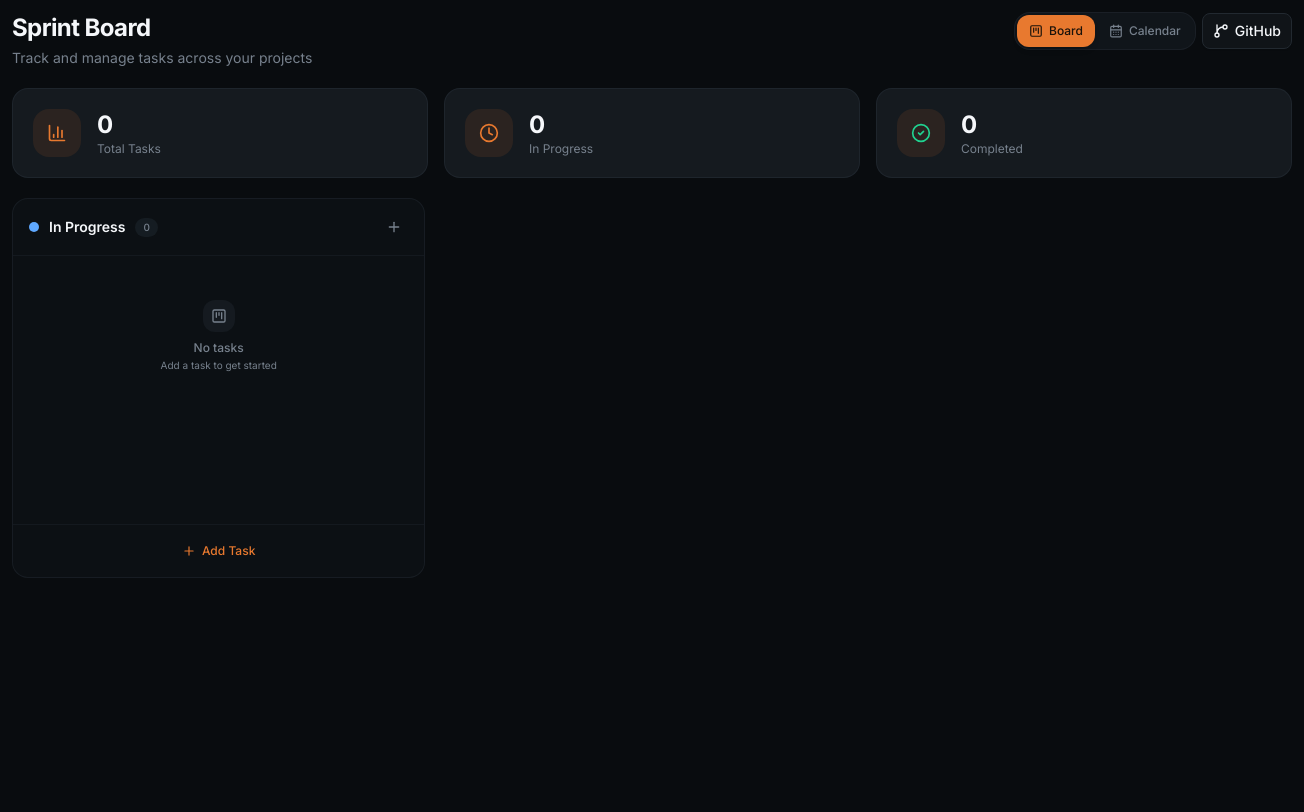
Test: BoardPage calendar › shows the empty state when nothing is scheduled for the period
The image size is (1304, 812).
Expected: the heading "Sprint Board" is shown, [12,13,150,42]
Click the button "Calendar": (1145,31) [1097,15,1193,47]
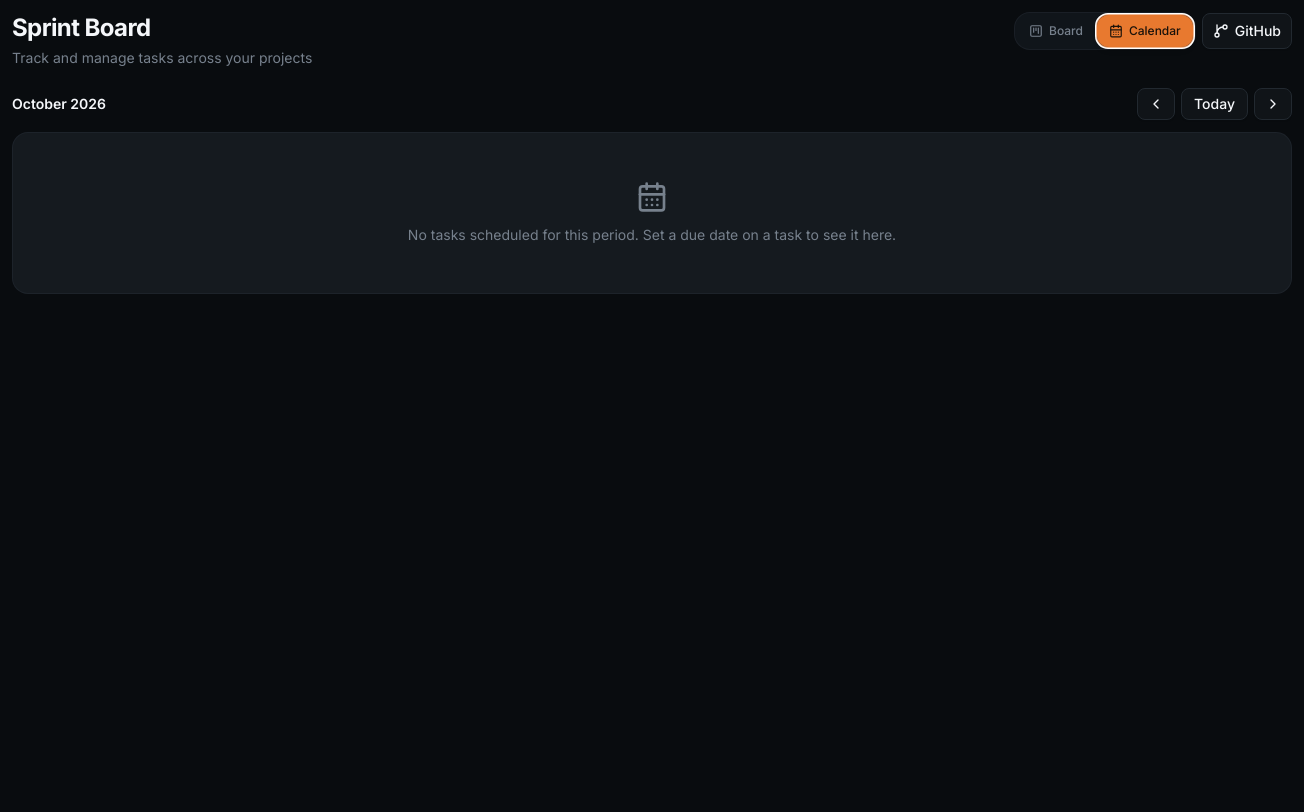
Result: the text "No tasks scheduled for this period" is shown at [408,226,896,243]
